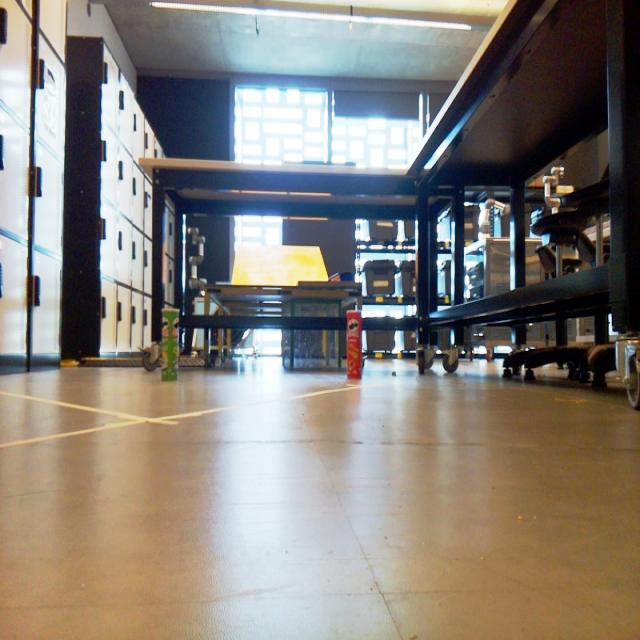greenpringles: (157, 302, 187, 382)
redpringles: (338, 296, 372, 392)
